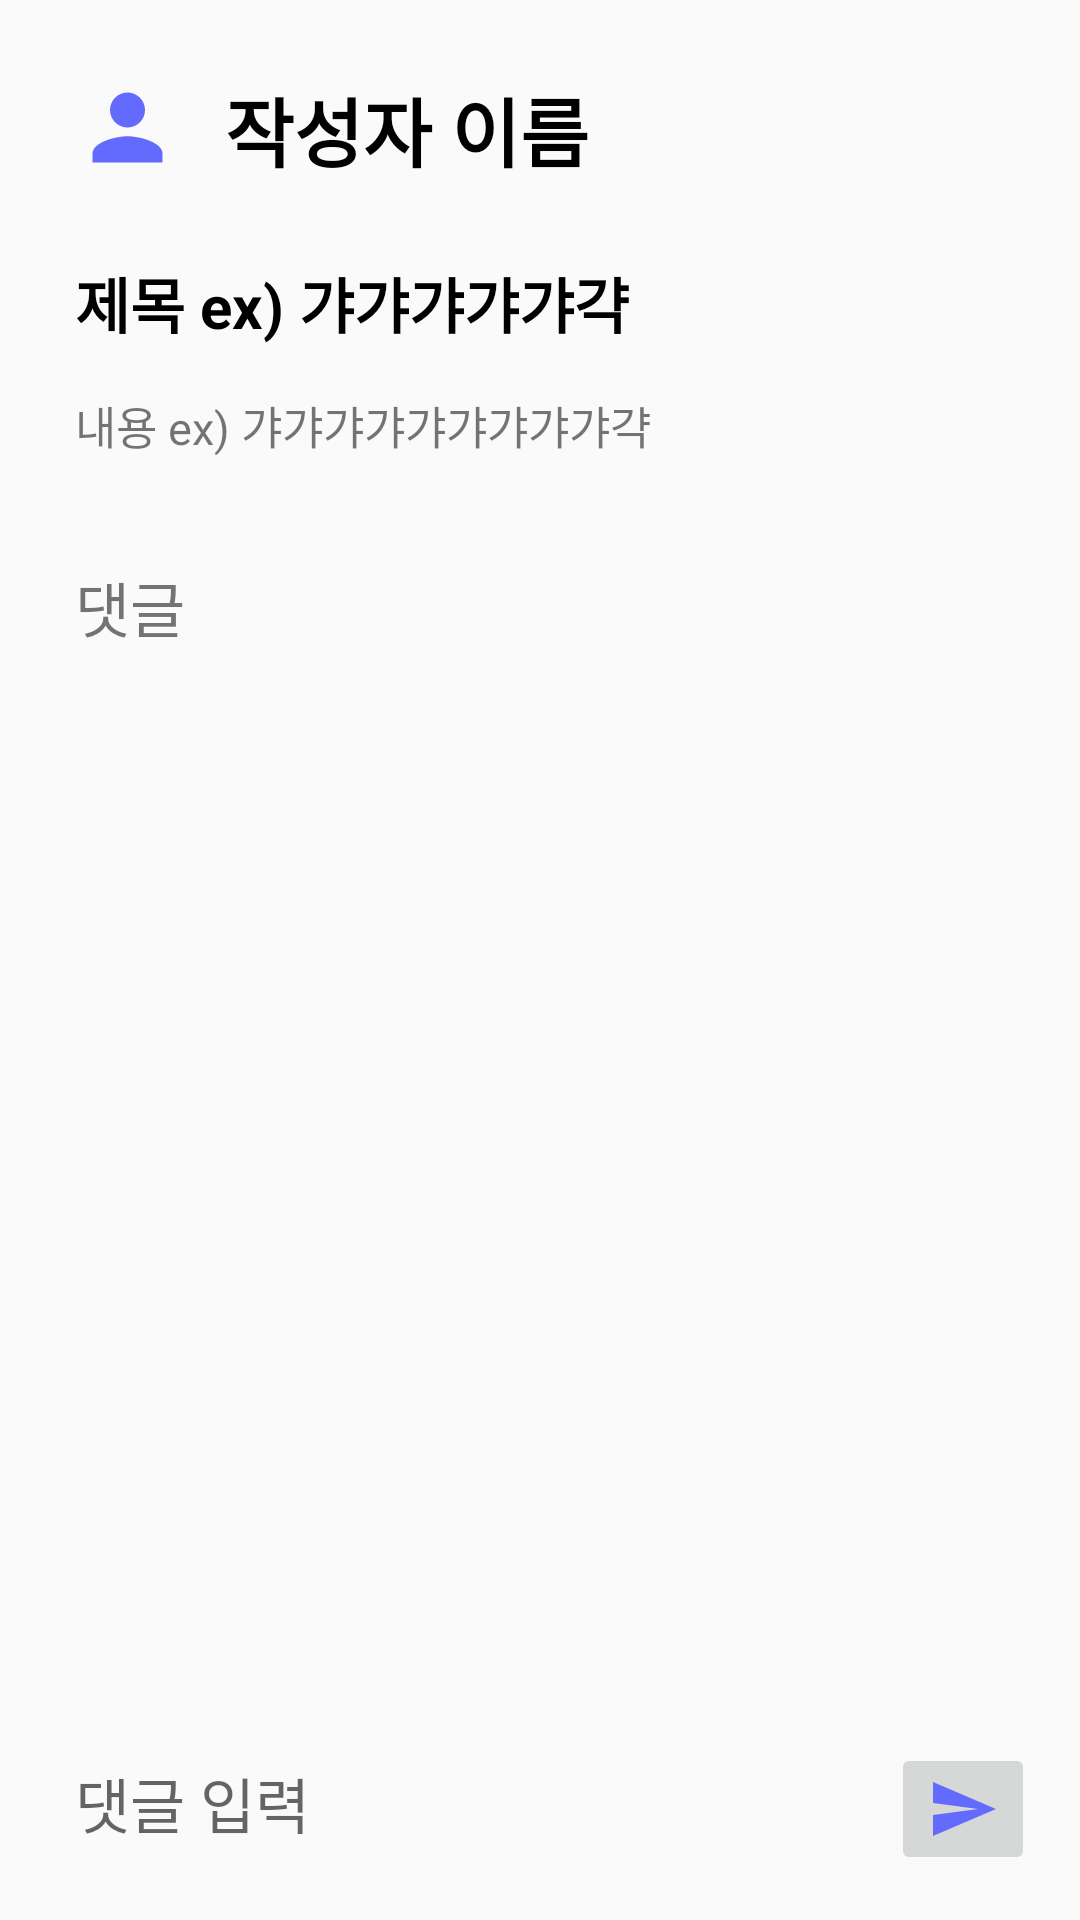

Icon click points for this 1080×1920 phone screenshot, format [x,y]:
person: [127,127]
send: [963,1809]
